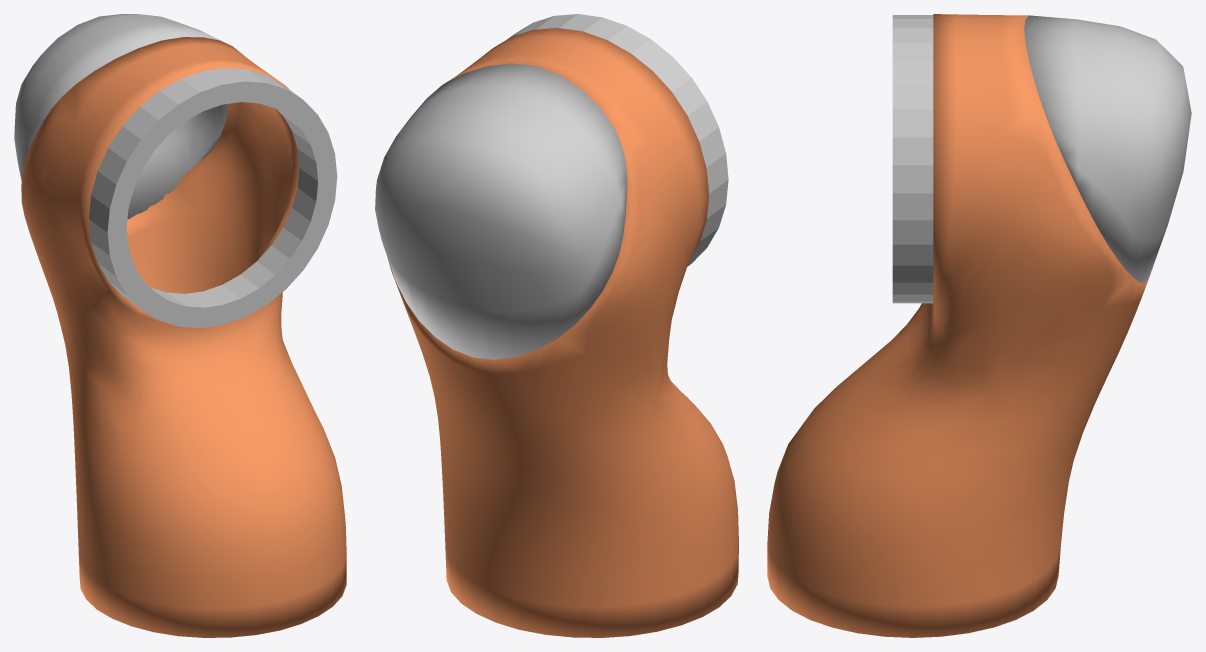
Rendered from arm_seg_1.dae.
3 views of the same model, side by side, from view 1: azimuth 30°, elevation 25°; view 2: azimuth 150°, elevation 25°; view 3: azimuth 270°, elevation 25° (orthographic). The views are drawn at different scales.
Parts seen in each view (by area): view 1: arm_seg_1; view 2: arm_seg_1; view 3: arm_seg_1.
Boxes of the visible parts, box(x1,y1,x2,y2) form: arm_seg_1: box(14, 14, 346, 637); arm_seg_1: box(375, 14, 738, 637); arm_seg_1: box(767, 14, 1191, 637).
Bounding box in the file's own units: 0.124 × 0.1765 × 0.2521.
